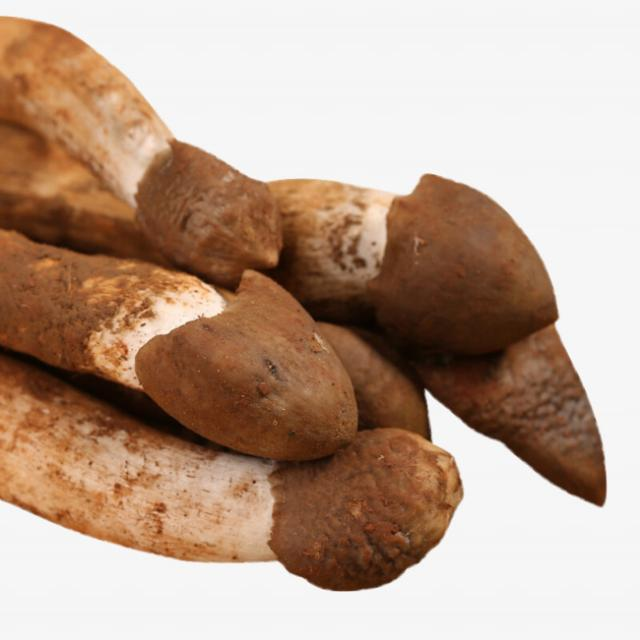Collybia albuminosa: (0, 357, 463, 590), (0, 231, 362, 460), (0, 13, 283, 272), (236, 174, 558, 353)
